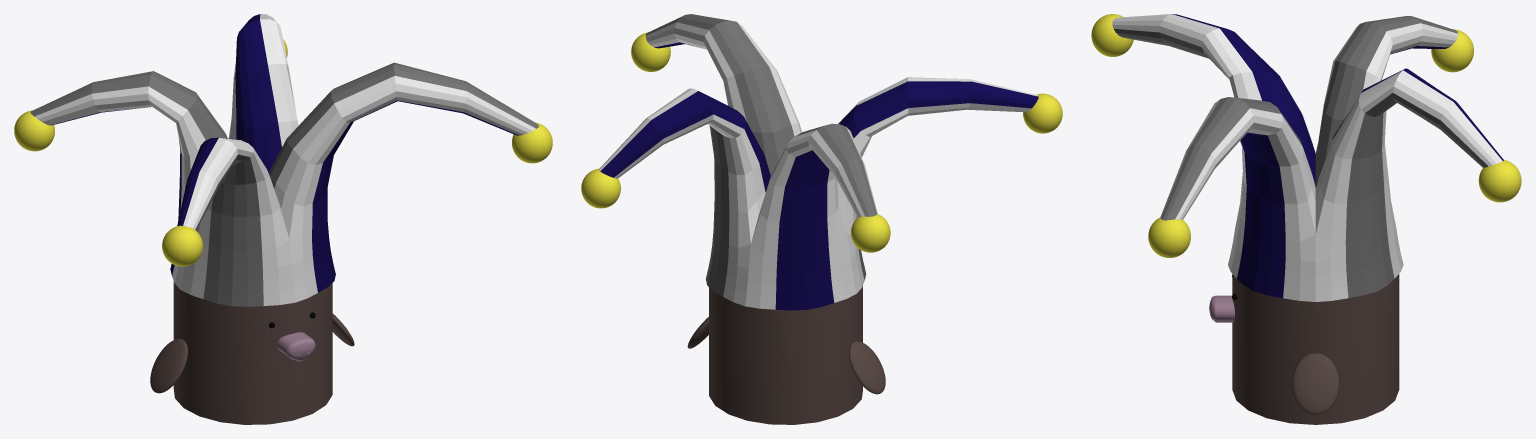
Rendered from Joker_Mole.fbx.
The picture shows the model from 3 angles, left to right: view 1: azimuth 30°, elevation 25°; view 2: azimuth 150°, elevation 25°; view 3: azimuth 270°, elevation 25°; orthographic projection. The views are drawn at different scales.
Parts seen in each view (by area): view 1: Cube.001, Body, Right_Hand, Sphere.003, Sphere.002, Sphere.001, Nose; view 2: Cube.001, Body, Right_Hand, Sphere.002, Sphere, Sphere.003, Sphere.001; view 3: Cube.001, Body, Left_Hand, Sphere, Sphere.001, Sphere.003, Sphere.002, Nose.
Part boxes in pixels (x1,y1,x2,y2): Cube.001: (30,14,538,306); Body: (173,281,332,424); Right_Hand: (150,339,187,393); Sphere.003: (162,225,202,266); Sphere.002: (14,110,54,151); Sphere.001: (512,122,552,163); Nose: (277,332,315,361); Cube.001: (599,14,1038,310); Body: (709,286,862,424); Right_Hand: (849,341,885,394); Sphere.002: (851,214,890,252); Sphere: (581,168,620,208); Sphere.003: (1023,93,1062,133); Sphere.001: (631,32,670,71); Cube.001: (1112,14,1503,301); Body: (1232,274,1399,424); Left_Hand: (1292,353,1339,414); Sphere: (1478,160,1521,202); Sphere.001: (1148,217,1190,257); Sphere.003: (1091,14,1133,56); Sphere.002: (1431,29,1473,72); Nose: (1209,295,1234,322).
Size of the model in its own units: 375 by 287 by 325.
